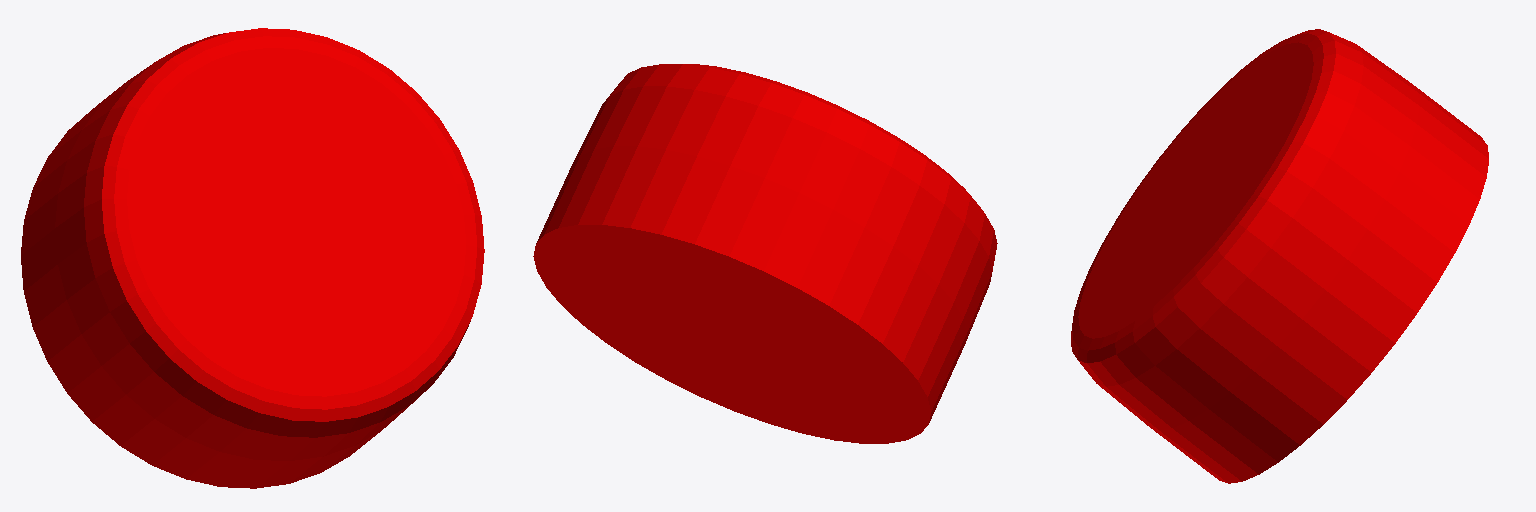
Rendered from Events-Btn-Toggle.obj.
3 renders of one model, left to right at view 1: azimuth 30°, elevation 25°; view 2: azimuth 150°, elevation 25°; view 3: azimuth 270°, elevation 25°, orthographic.
Parts seen in each view (by area): view 1: Events-Btn-Toggle_Bouton.006; view 2: Events-Btn-Toggle_Bouton.006; view 3: Events-Btn-Toggle_Bouton.006.
Boxes of the visible parts, x1=… form: Events-Btn-Toggle_Bouton.006: x1=21, y1=28, x2=484, y2=488; Events-Btn-Toggle_Bouton.006: x1=533, y1=64, x2=997, y2=443; Events-Btn-Toggle_Bouton.006: x1=1071, y1=29, x2=1488, y2=483.
Bounding box in the file's own units: 0.1298 × 0.1341 × 0.1255.